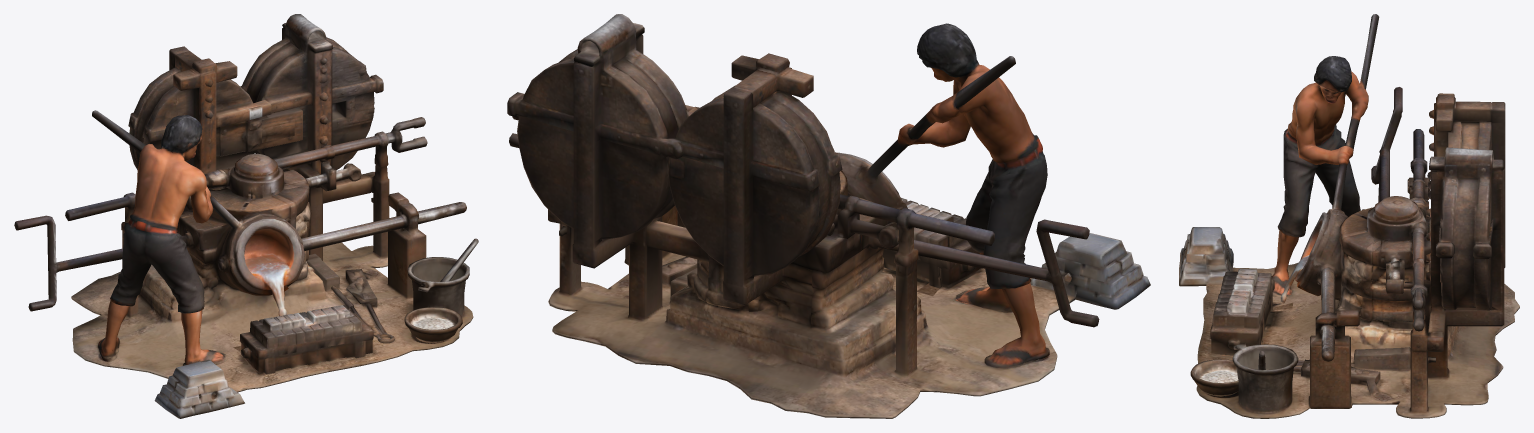
The model's file is fundicion.glb.
The picture shows the model from 3 angles, left to right: view 1: azimuth 30°, elevation 25°; view 2: azimuth 150°, elevation 25°; view 3: azimuth 270°, elevation 25°; orthographic projection. The views are drawn at different scales.
Parts seen in each view (by area): view 1: tripo_node_15142e90-c7f5-49f7-ad4a-f59e756c75f3; view 2: tripo_node_15142e90-c7f5-49f7-ad4a-f59e756c75f3; view 3: tripo_node_15142e90-c7f5-49f7-ad4a-f59e756c75f3.
Boxes of the visible parts, x1,y1,x2,y2 form: tripo_node_15142e90-c7f5-49f7-ad4a-f59e756c75f3: (14, 14, 478, 418); tripo_node_15142e90-c7f5-49f7-ad4a-f59e756c75f3: (507, 14, 1150, 418); tripo_node_15142e90-c7f5-49f7-ad4a-f59e756c75f3: (1179, 14, 1519, 418).
Size of the model in its own units: 0.9798 by 0.5311 by 0.6692.
1 material, 1 textured.
